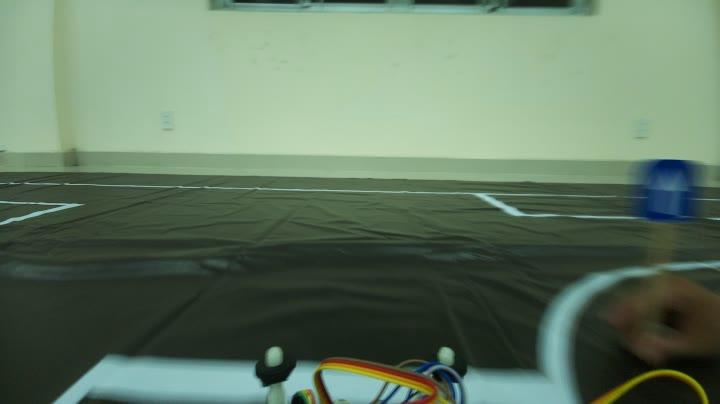onewayroad: (634, 158, 704, 218)
